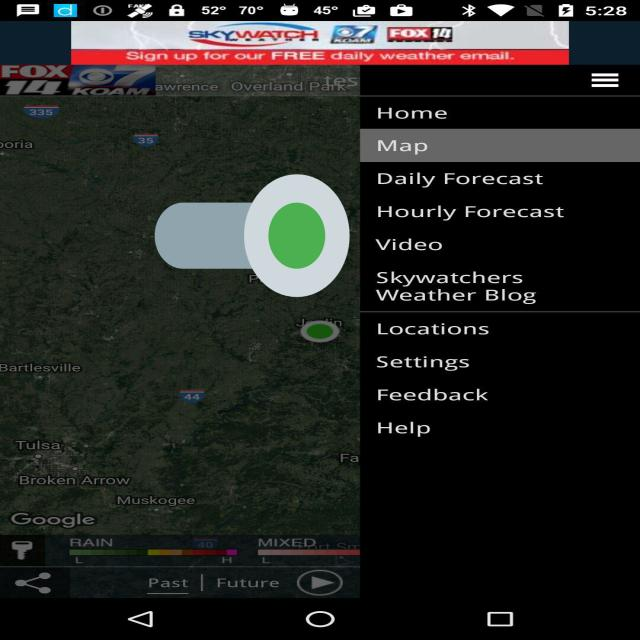social proof: (154, 122, 350, 349)
